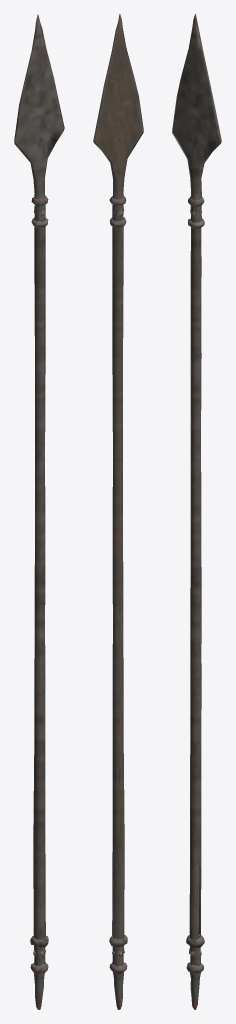
Rendered from w_spear.glb.
The picture shows the model from 3 angles, left to right: view 1: azimuth 30°, elevation 25°; view 2: azimuth 210°, elevation 25°; view 3: azimuth 330°, elevation 25°; orthographic projection.
Parts seen in each view (by area): view 1: w_spear; view 2: w_spear; view 3: w_spear.
Part boxes in pixels (x1,y1,x2,y2): w_spear: (14,14,64,1009); w_spear: (93,14,143,1009); w_spear: (172,14,221,1009).
Bounding box in the file's own units: 0.1164 × 2.21 × 0.0369.
Materials: 1 (1 with a texture image).
